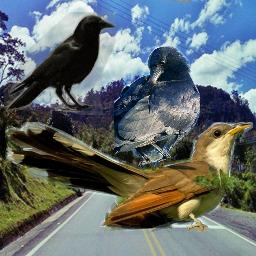Crow: (4, 12, 116, 115), (114, 46, 200, 171)
Cuckoo: (5, 122, 253, 232)
